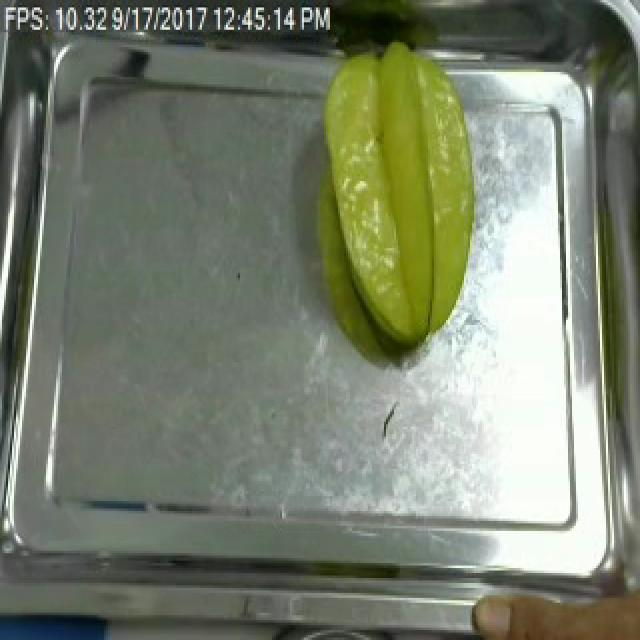fruit: (306, 32, 488, 365), (462, 563, 640, 640)
